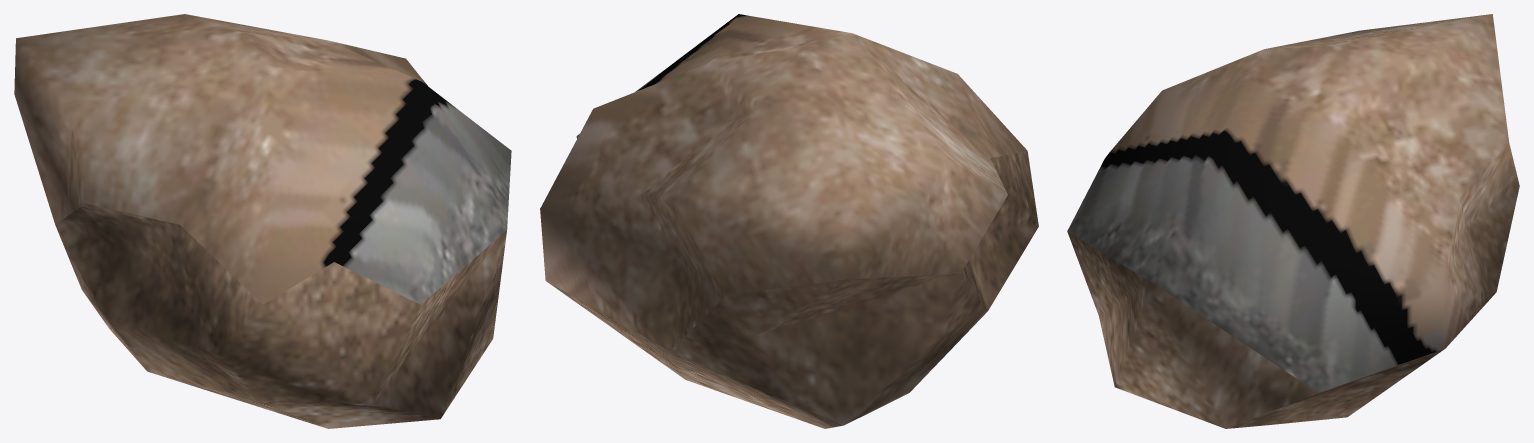
Rendered from asteroid6.fbx.
The picture shows the model from 3 angles, left to right: view 1: azimuth 30°, elevation 25°; view 2: azimuth 150°, elevation 25°; view 3: azimuth 270°, elevation 25°; orthographic projection. The views are drawn at different scales.
Visible parts, largest first — view 1: PipelineFBX; view 2: PipelineFBX; view 3: PipelineFBX.
Part boxes in pixels (x1=…): PipelineFBX: x1=14, y1=14, x2=511, y2=428; PipelineFBX: x1=540, y1=14, x2=1038, y2=428; PipelineFBX: x1=1067, y1=14, x2=1519, y2=428.
Size of the model in its own units: 144 by 119 by 142.
Materials: 1 (1 with a texture image).
